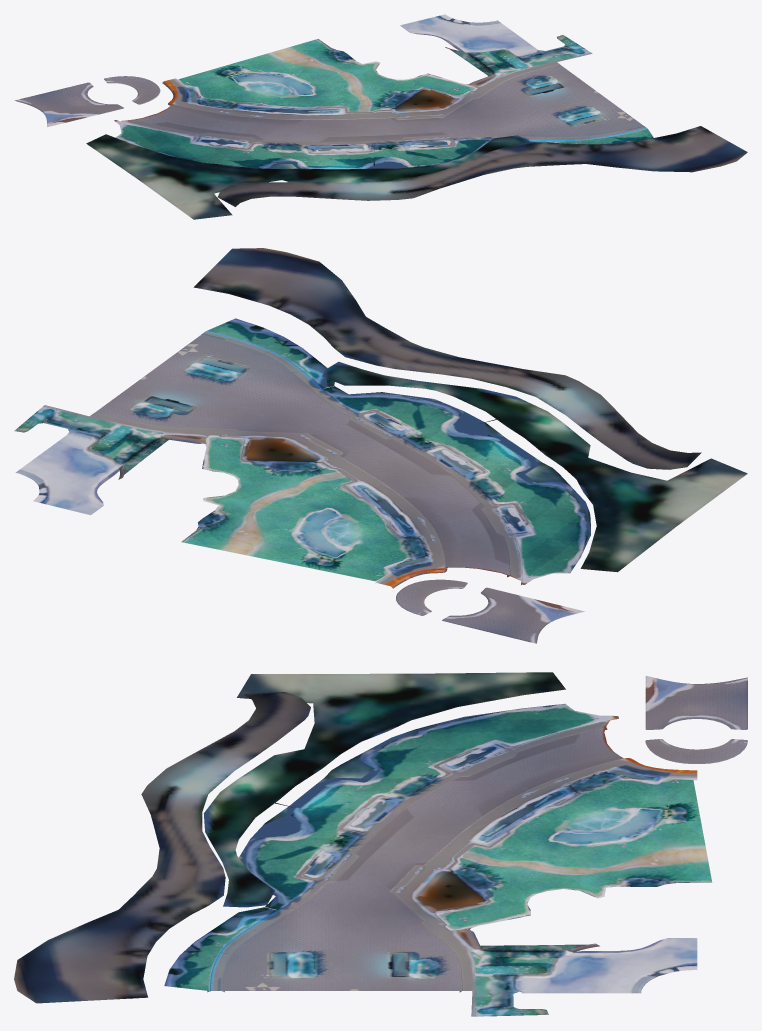
The model's file is pref_sm_beach_tech_hunt_bk_winter_Terrains_Part_01_lv0.fbx.
3 renders of one model, top to bottom at view 1: azimuth 30°, elevation 25°; view 2: azimuth 150°, elevation 25°; view 3: azimuth 270°, elevation 25°, orthographic. The views are drawn at different scales.
Parts seen in each view (by area): view 1: pref_sm_beach_tech_hunt_bk_winter_Terrains_Part_01_lv0; view 2: pref_sm_beach_tech_hunt_bk_winter_Terrains_Part_01_lv0; view 3: pref_sm_beach_tech_hunt_bk_winter_Terrains_Part_01_lv0.
Boxes of the visible parts, bbox=[...] form: pref_sm_beach_tech_hunt_bk_winter_Terrains_Part_01_lv0: bbox=[14, 14, 747, 219]; pref_sm_beach_tech_hunt_bk_winter_Terrains_Part_01_lv0: bbox=[14, 248, 747, 643]; pref_sm_beach_tech_hunt_bk_winter_Terrains_Part_01_lv0: bbox=[14, 672, 747, 1016].
Bounding box in the file's own units: 75.21 × 1.82 × 67.97.
